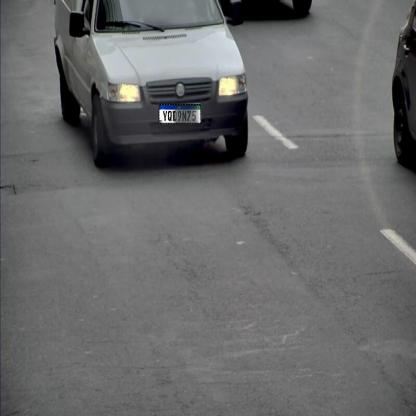PlacaM: (159, 104, 201, 124)
